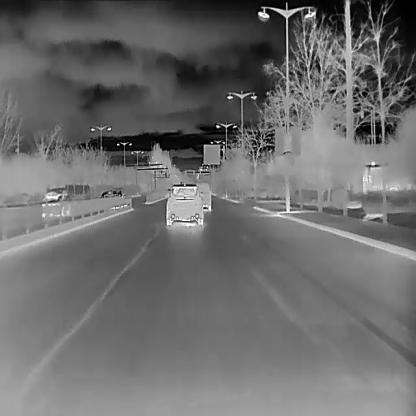car: (165, 182, 204, 225), (192, 182, 212, 210), (103, 186, 128, 208), (98, 188, 109, 198)
truck: (40, 184, 91, 218)
